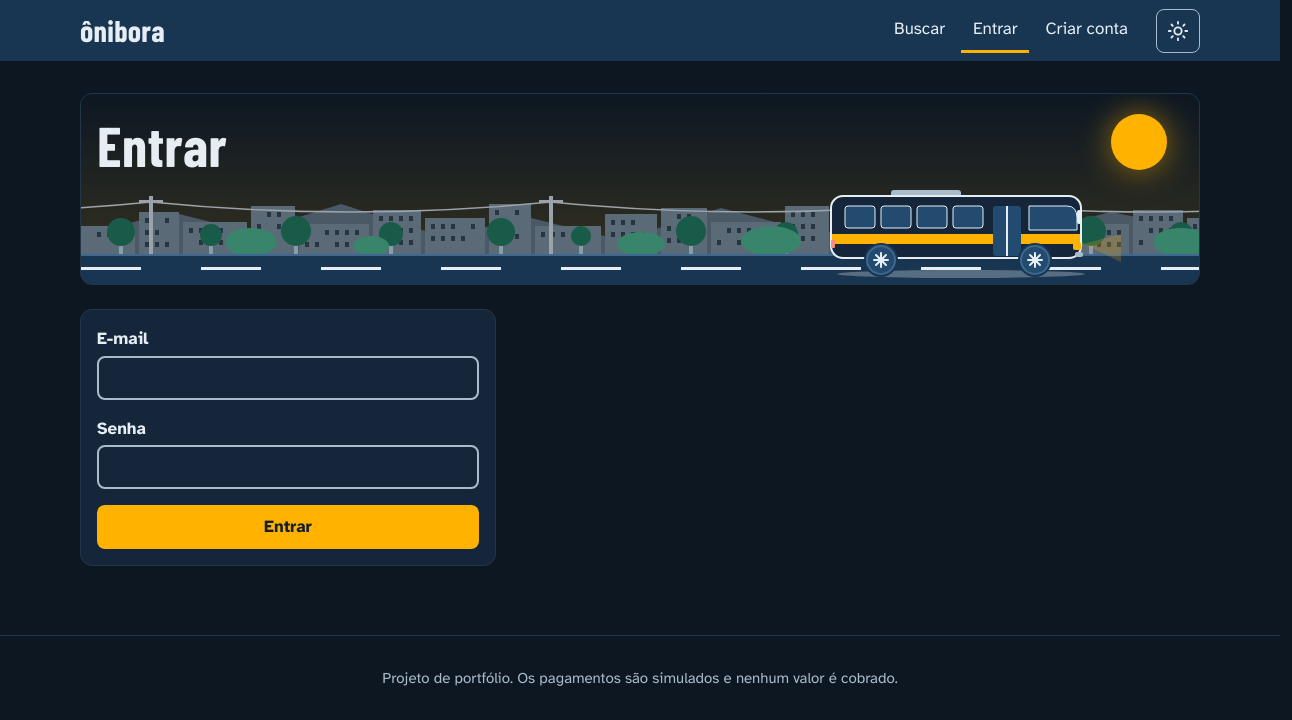
Test: transição entre rotas › com movimento reduzido, navegar não mexe no estilo do conteúdo
The width and height of the screenshot is (1292, 720).
Click the link "Criar conta" at (1087, 29), box [1046,18,1128,39]
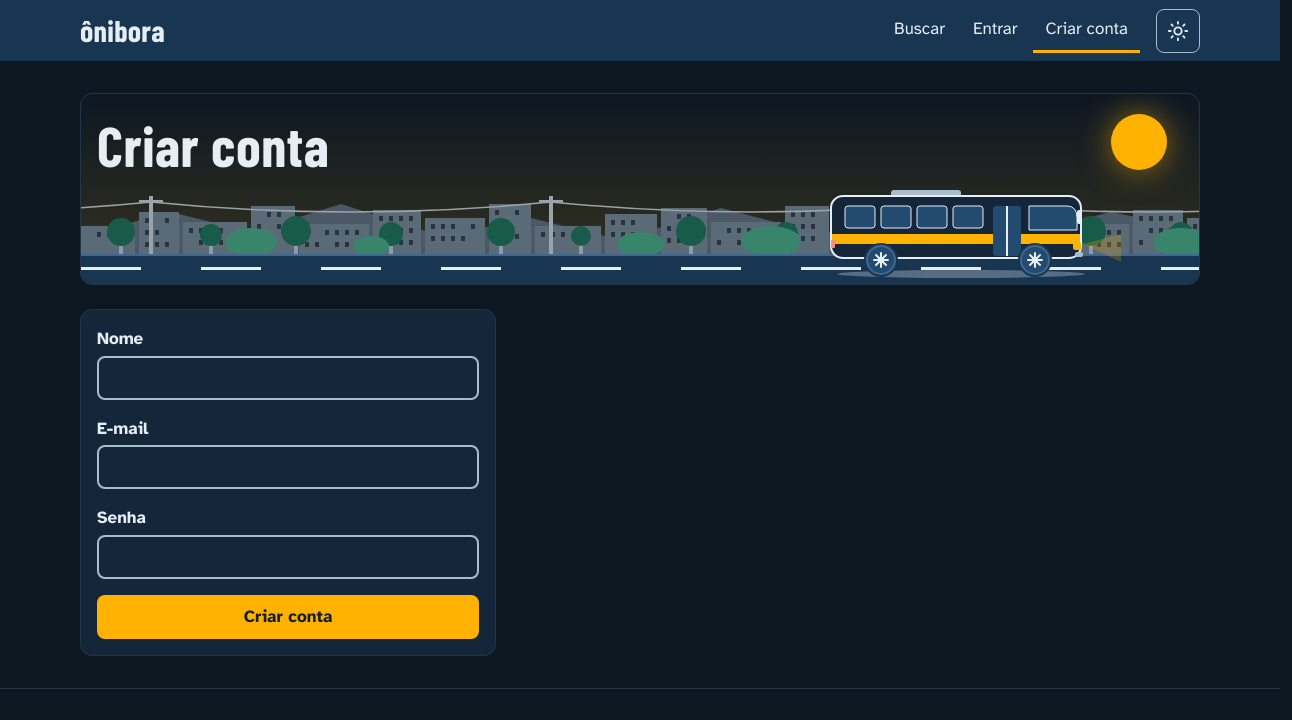
Check: the heading "Criar conta" is shown, box [97,111,329,178]
